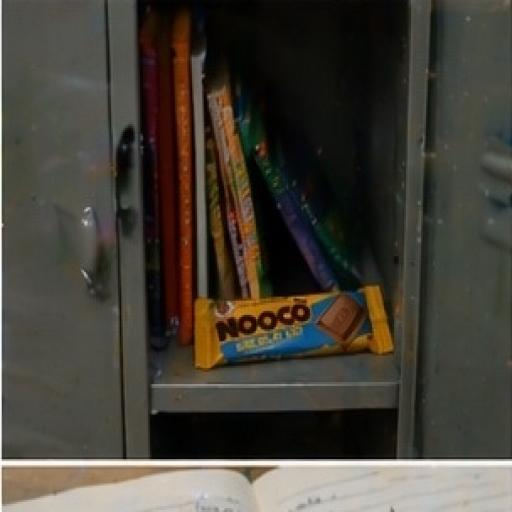biscuit-detection: (162, 266, 425, 393)
